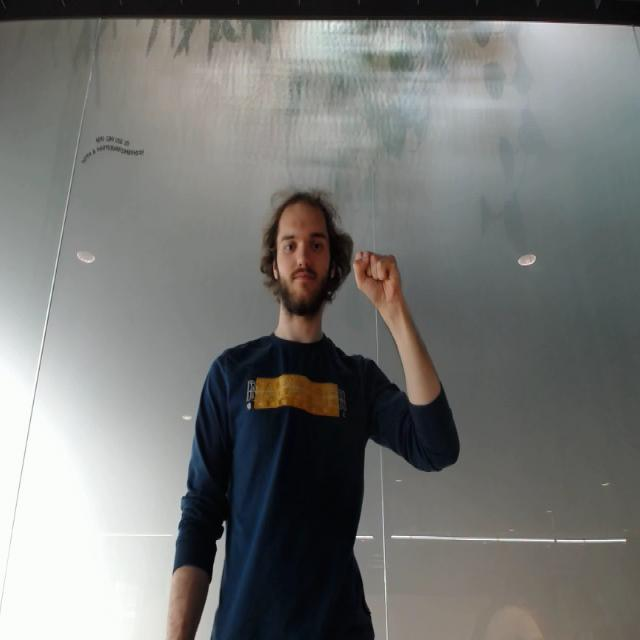stop: (353, 244, 404, 310)
